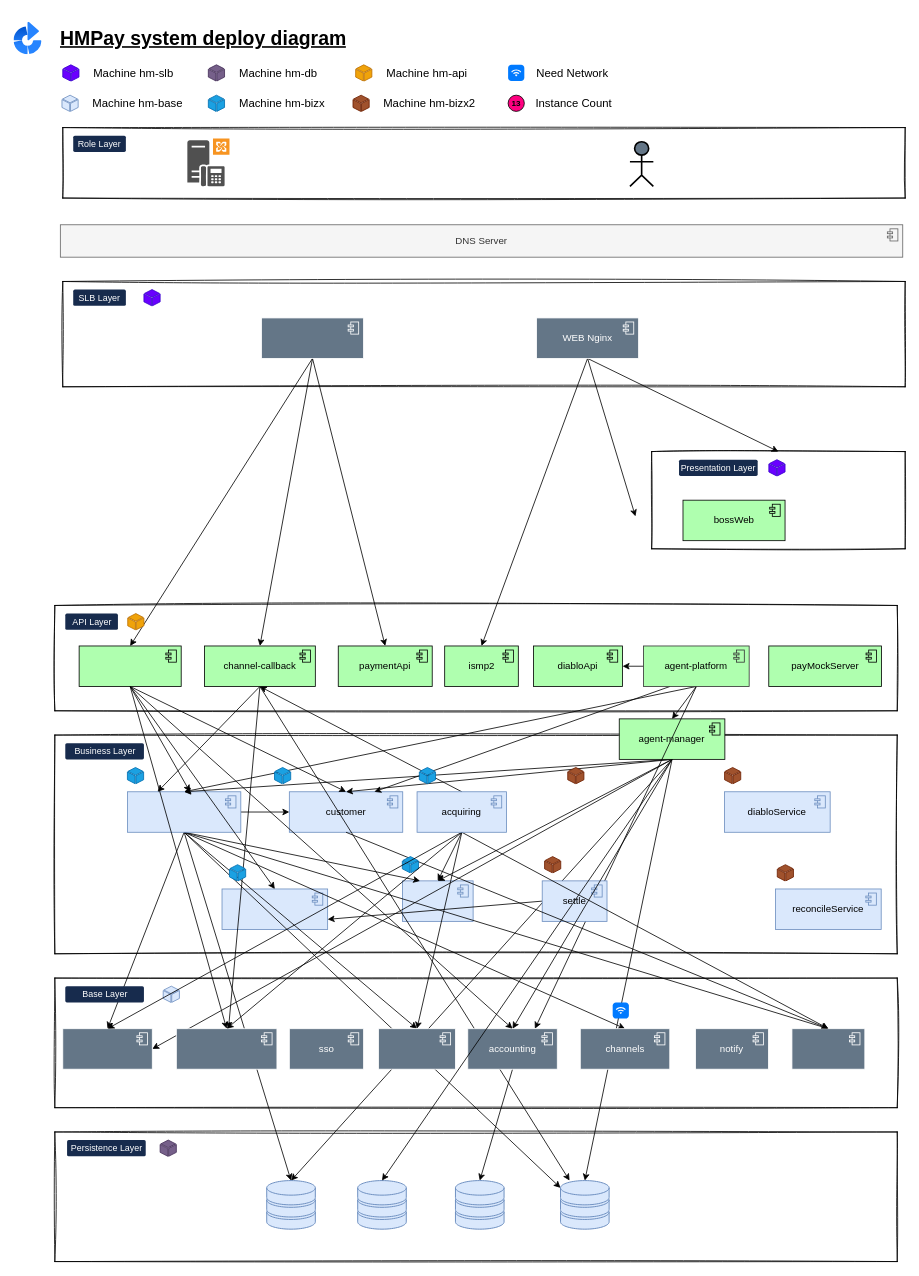
Image size: 919x1276. Some labels were removed from this diagram. Here are the shapes that lost their labels. From the top down, the centre of each, then its label:
At (x=312, y=337): "API Nginx".
At (x=129, y=665): "agentPayApi".
At (x=184, y=811): "agentPayCore".
At (x=274, y=908): "detour".
At (x=437, y=900): "finance".
At (x=107, y=1048): "strategy".
At (x=226, y=1048): "security".
At (x=416, y=1048): "eims".
At (x=828, y=1048): "risk".
At (x=291, y=1204): "rabitMQ".
At (x=381, y=1204): "mysql".
At (x=479, y=1204): "oracle".
At (x=584, y=1204): "redis".
